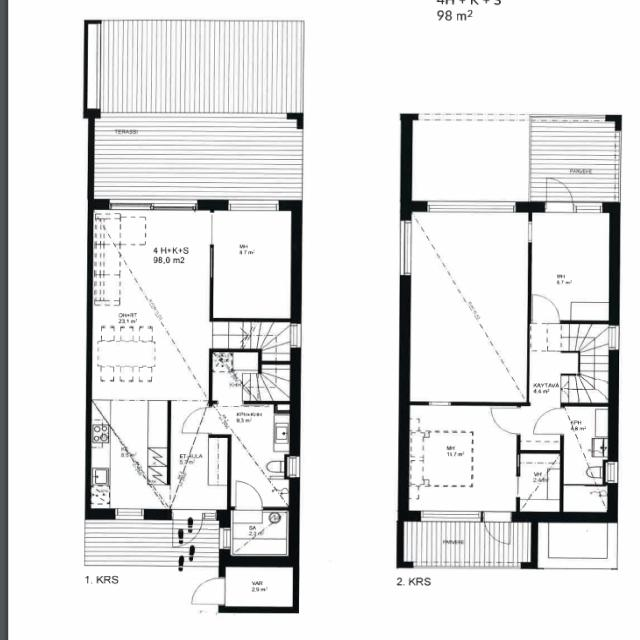door: (172, 510, 202, 547), (546, 175, 572, 213), (484, 512, 511, 548), (488, 408, 520, 433), (237, 480, 263, 510), (181, 408, 212, 433), (535, 294, 561, 323), (534, 409, 564, 434), (196, 578, 227, 601)
